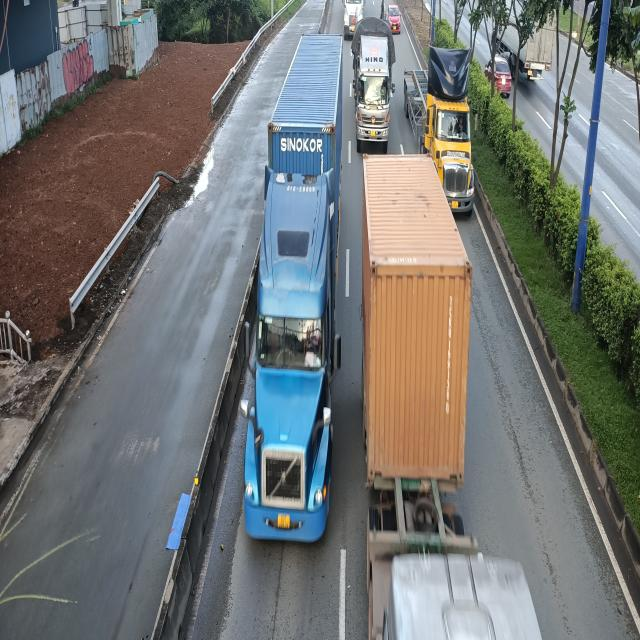car: (384, 2, 402, 33)
container: (354, 141, 541, 640), (239, 39, 343, 548), (402, 46, 475, 221), (352, 20, 395, 146), (343, 0, 365, 38)
